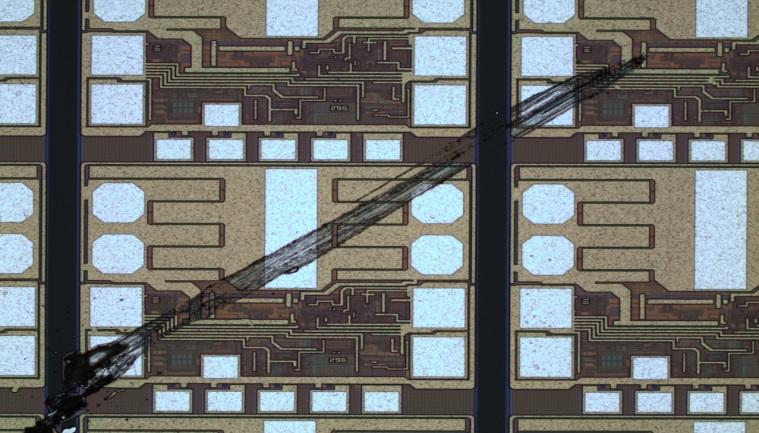SCRATCH: (18, 40, 661, 433)
